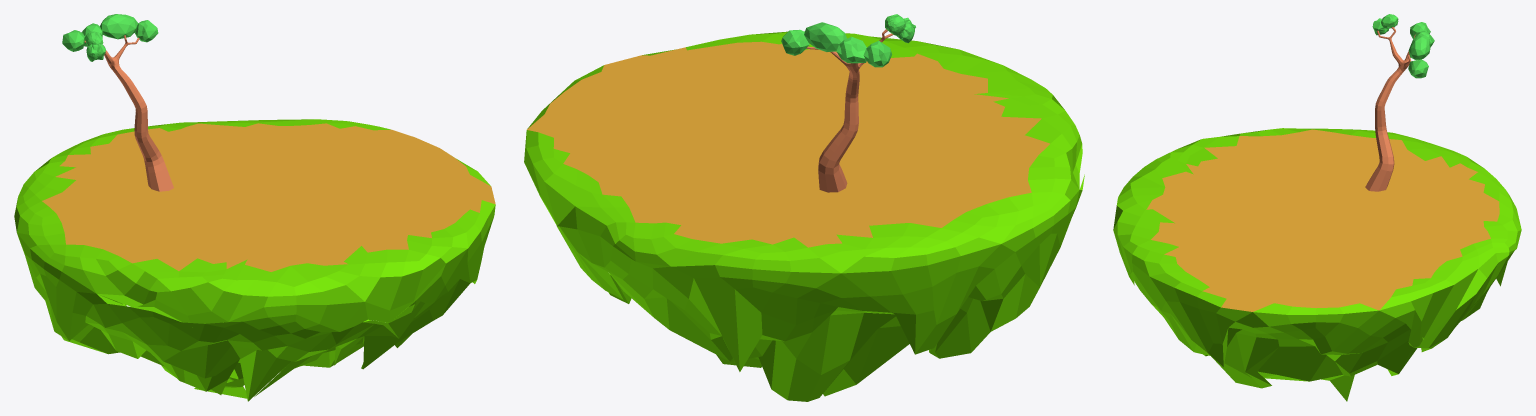
Rendered from floatingIsland.gltf.
3 views of the same model, side by side, from view 1: azimuth 30°, elevation 25°; view 2: azimuth 150°, elevation 25°; view 3: azimuth 270°, elevation 25° (orthographic). The views are drawn at different scales.
Visible parts, largest first — view 1: Icosphere, Cube.001, Icosphere.003; view 2: Icosphere, Cube.001, Icosphere.003, Icosphere.005, Icosphere.004, Icosphere.001; view 3: Icosphere, Cube.001, Icosphere.003.
Part boxes in pixels (x1,y1,x2,y2): Icosphere: (14,119,495,401); Cube.001: (84,35,173,191); Icosphere.003: (100,14,138,39); Icosphere: (524,31,1084,401); Cube.001: (806,29,893,192); Icosphere.003: (804,22,846,51); Icosphere.005: (836,36,866,63); Icosphere.004: (863,41,891,67); Icosphere.001: (781,29,809,55); Icosphere: (1113,128,1521,401); Cube.001: (1365,27,1415,191); Icosphere.003: (1408,34,1430,60).
Size of the model in its own units: 11.38 by 9.12 by 10.78.
